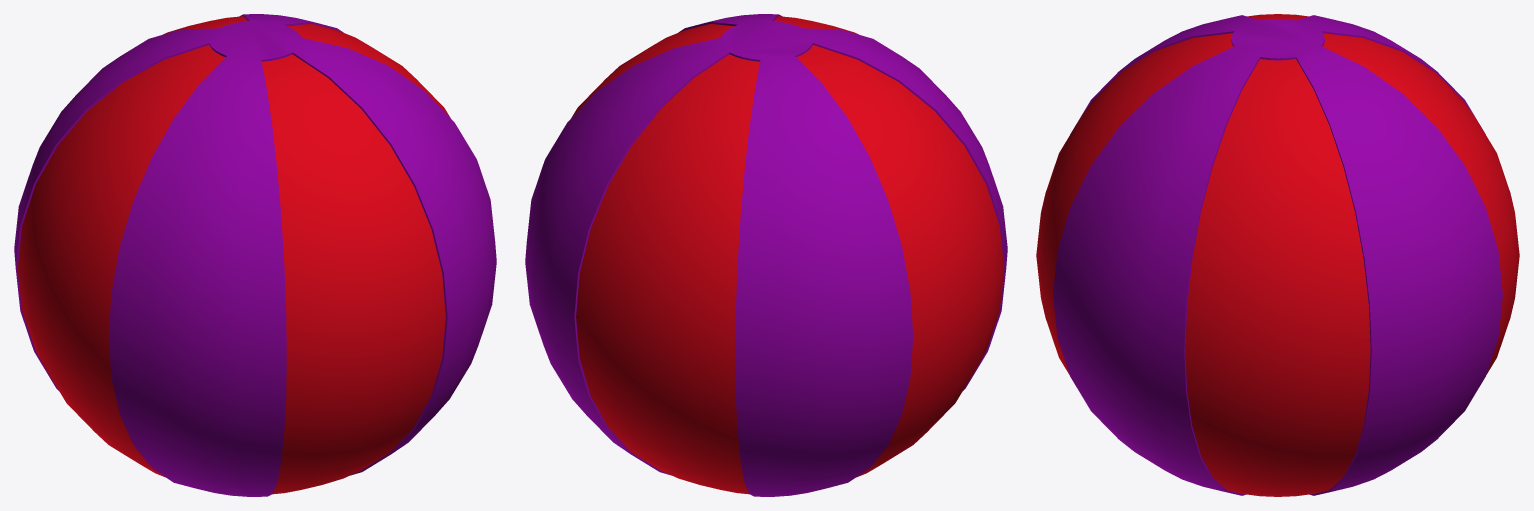
The model's file is Waterpolo01.fbx.
3 renders of one model, left to right at view 1: azimuth 30°, elevation 25°; view 2: azimuth 150°, elevation 25°; view 3: azimuth 270°, elevation 25°, orthographic.
Parts seen in each view (by area): view 1: Waterpolo01; view 2: Waterpolo01; view 3: Waterpolo01.
Part boxes in pixels (left/top/right/bottom): Waterpolo01: left=14, top=14, right=496, bottom=496; Waterpolo01: left=525, top=14, right=1007, bottom=496; Waterpolo01: left=1036, top=14, right=1519, bottom=496.
Size of the model in its own units: 30 by 29.67 by 30.
